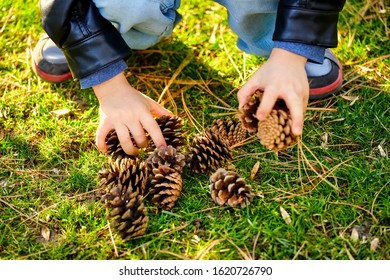Pc: (98, 160, 149, 199), (106, 194, 149, 238), (187, 130, 230, 173), (257, 109, 298, 152), (208, 168, 252, 206), (151, 165, 181, 209), (148, 147, 184, 175)
